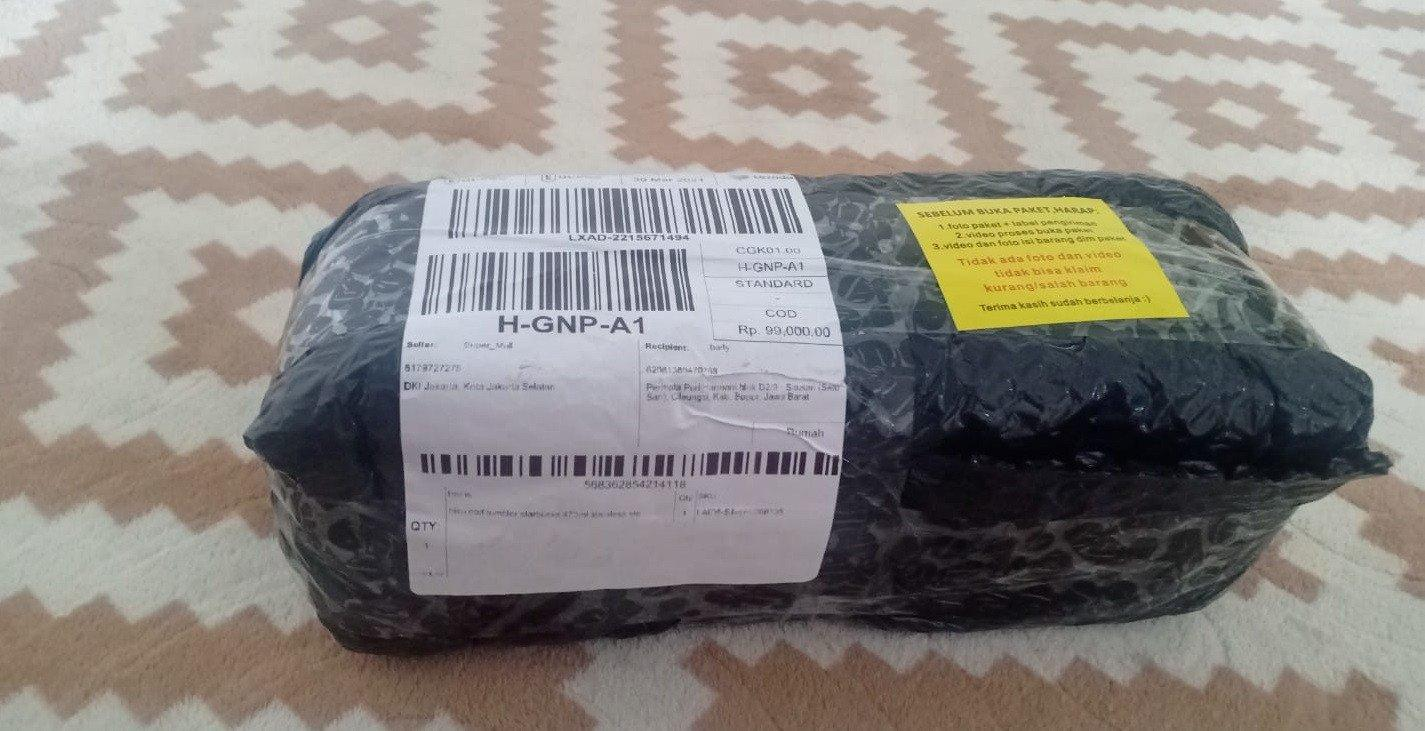undamaged: (233, 152, 1406, 669)
